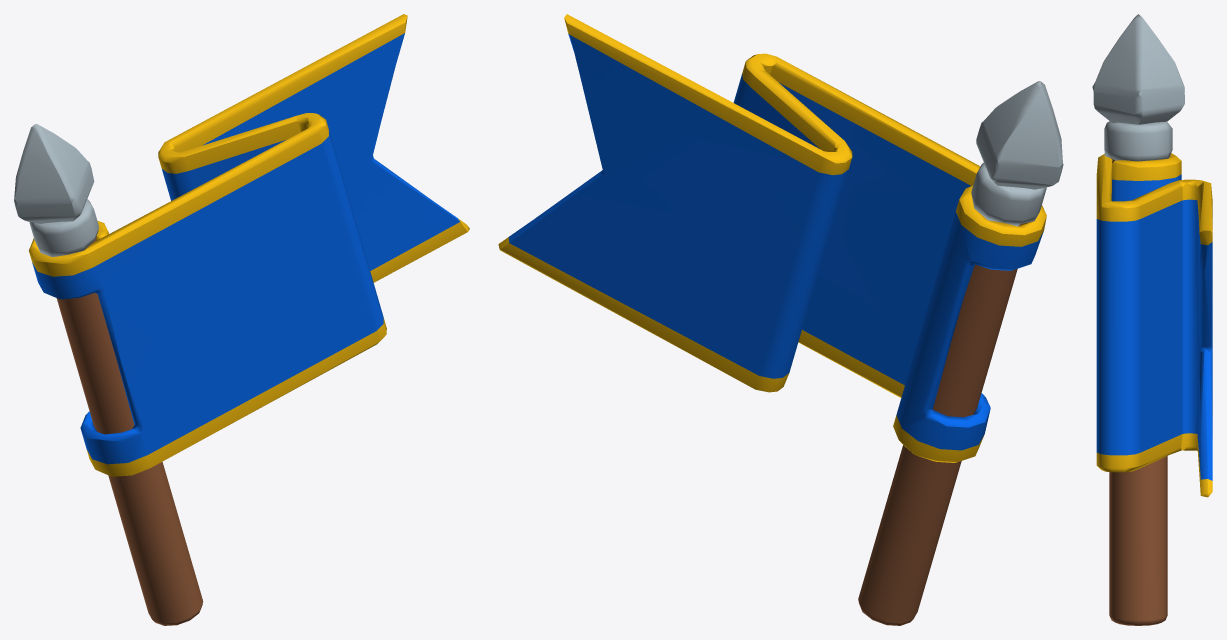
3 views of the same model, side by side, from view 1: azimuth 30°, elevation 25°; view 2: azimuth 150°, elevation 25°; view 3: azimuth 270°, elevation 25° (orthographic). The views are drawn at different scales.
Parts seen in each view (by area): view 1: model_1.057; view 2: model_1.057; view 3: model_1.057.
Boxes of the visible parts, x1,y1,x2,y2 form: model_1.057: (14,14,469,625); model_1.057: (498,14,1063,625); model_1.057: (1092,14,1212,625).
Bounding box in the file's own units: 4.45 × 4.61 × 0.9261.
